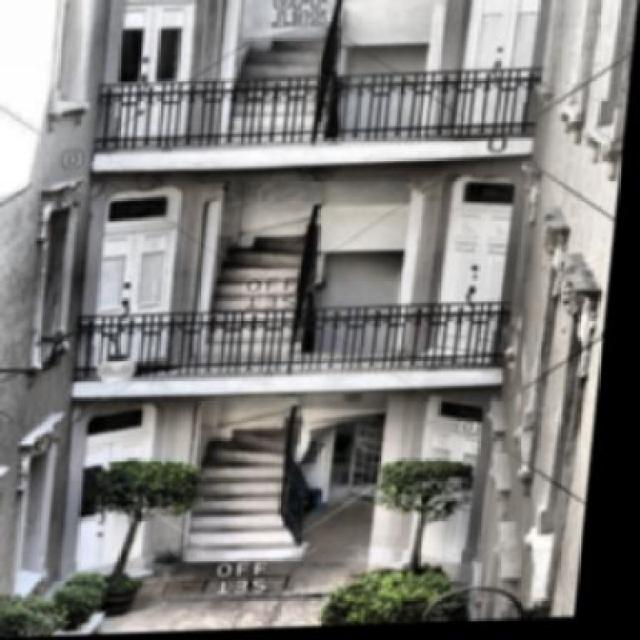stair: (202, 211, 329, 366), (168, 440, 324, 562), (228, 28, 342, 143)
